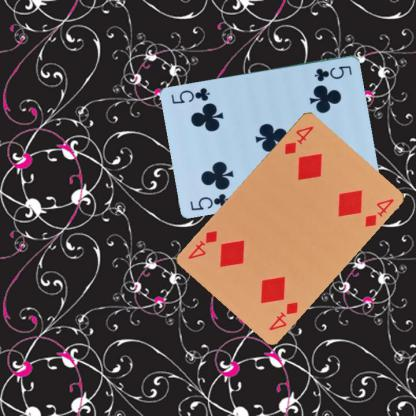4d: (281, 122, 315, 155), (266, 298, 299, 332)
5c: (187, 190, 230, 212), (312, 63, 353, 83)
